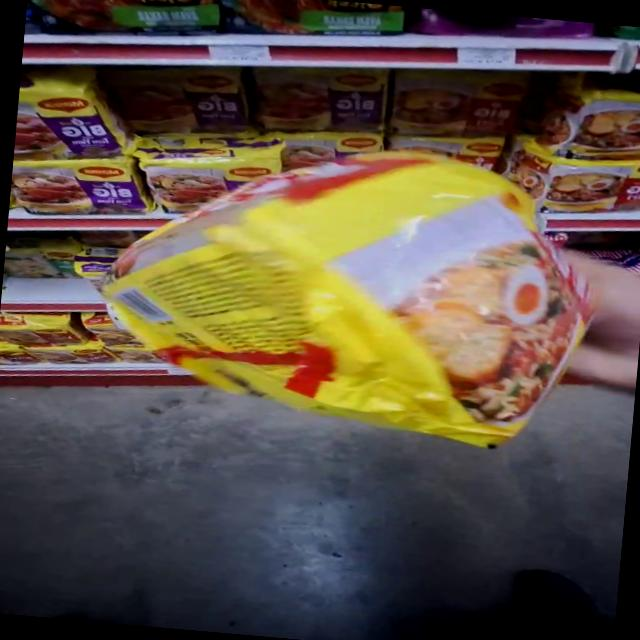Maggi: (46, 140, 570, 474)
